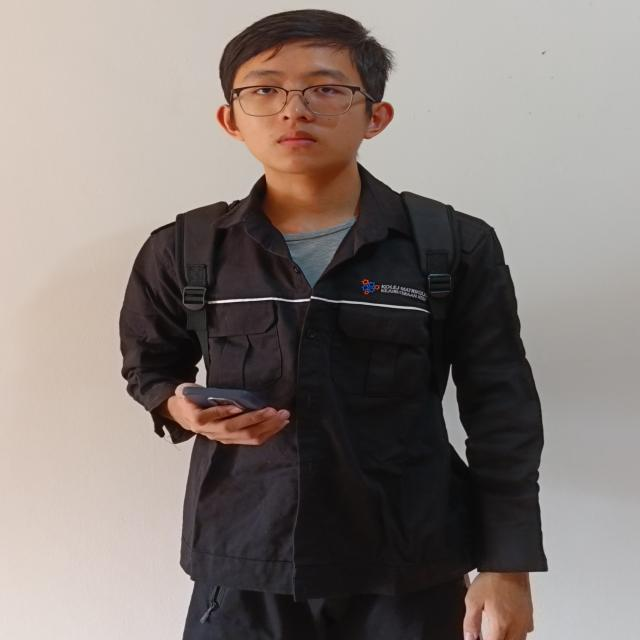person_with_labcoat: (120, 10, 547, 640)
